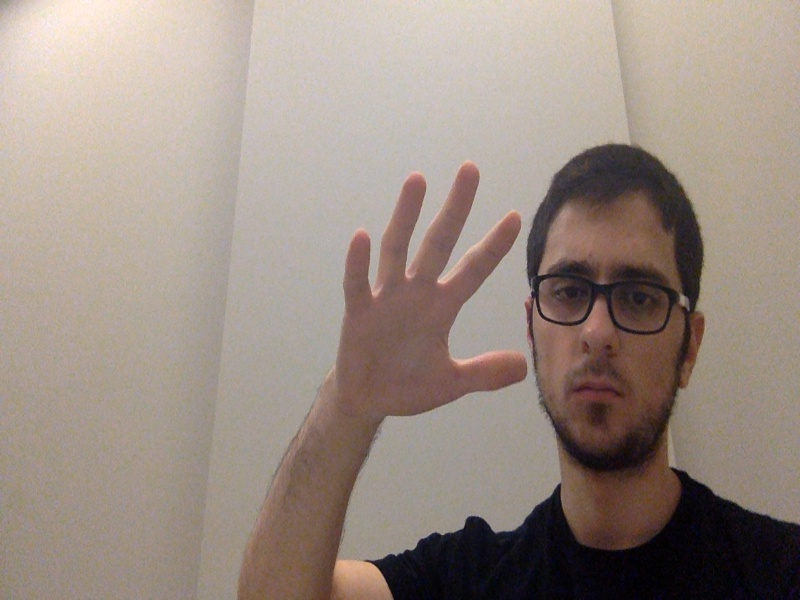5-hand: (333, 159, 531, 432)
